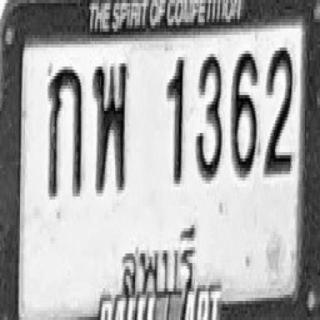A01: (48, 64, 82, 196)
A30: (92, 60, 128, 190)
N01: (166, 55, 184, 182)
N02: (264, 46, 292, 173)
N03: (196, 52, 222, 179)
N06: (231, 49, 258, 176)
P23: (117, 216, 197, 293)
